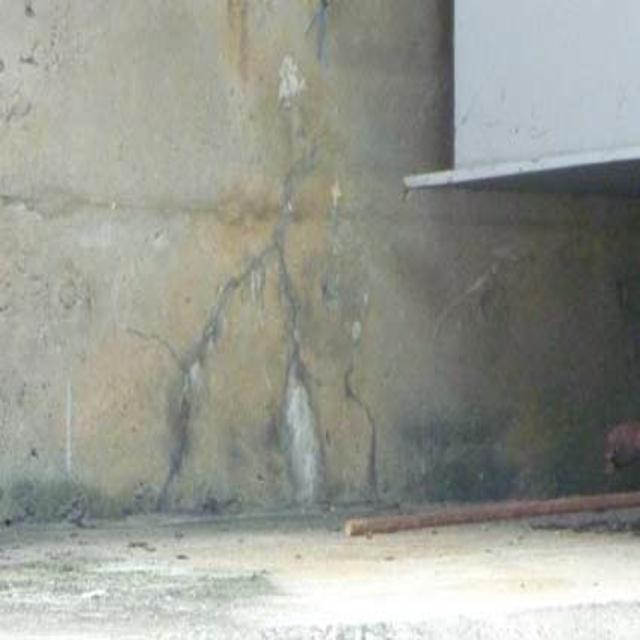freelime: (273, 370, 333, 510), (269, 39, 310, 120)
